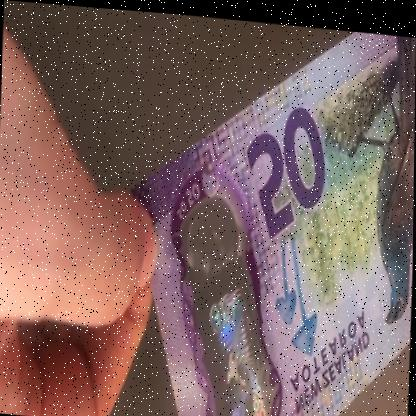50B: (174, 203, 278, 415)
